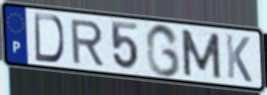5: (108, 19, 140, 72)
D: (33, 11, 67, 65)
G: (145, 22, 182, 79)
K: (224, 32, 254, 85)
M: (178, 27, 223, 81)
R: (69, 18, 106, 67)
